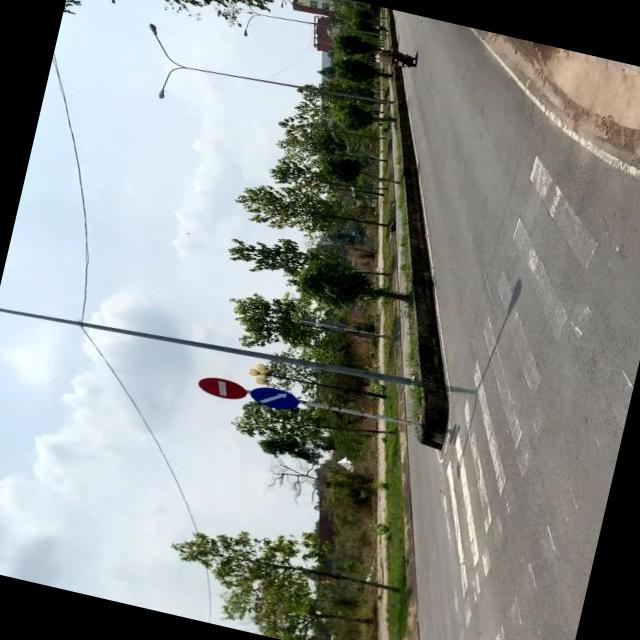P-102: (196, 373, 248, 402)
R-302a: (248, 382, 298, 412)
